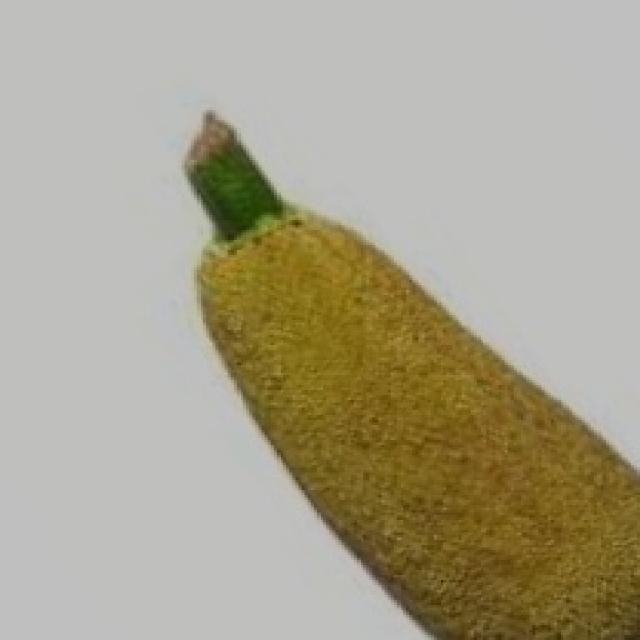Fruit: (212, 235, 640, 637)
